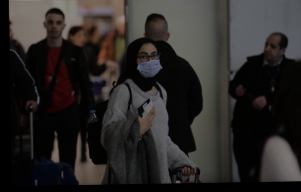with_mask: (135, 49, 163, 77)
without_mask: (262, 39, 280, 61), (44, 16, 62, 37)
